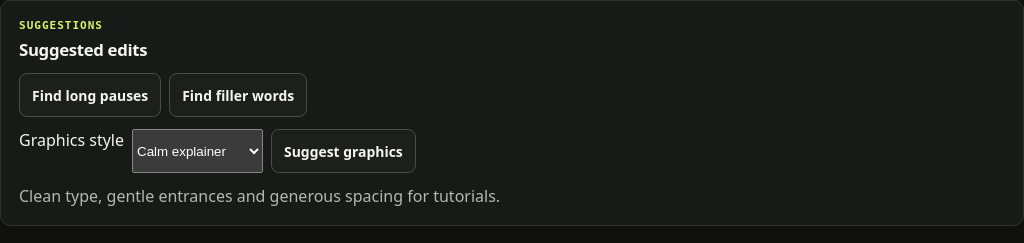
Test: ProposalsPanel graphics › describes the selected style recipe
The image size is (1024, 243).
expect the text "Clean type, gentle entrances and generous spacing for tutorials." is shown: met, box [19,185,500,207]
Step 1. Select "Retro" in the dropdown labelled "Graphics style" → (198, 151), box [132,129,263,173]
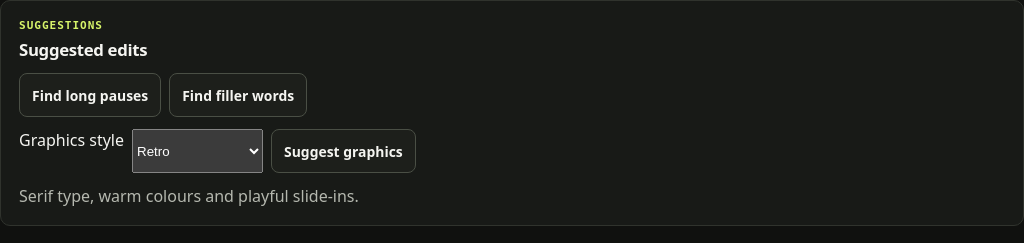
expect the text "Serif type, warm colours and playful slide-ins." is shown: met, box [19,185,359,207]
expect the text "Clean type, gentle entrances and generous spacing for tutorials." is gone: met
